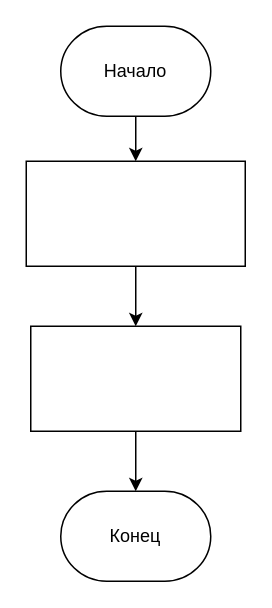
Some shapes in this 272 by 608 pixel diagram are drawn without their labels. The shapes that lost their labels are listed below. From the top down, each one's centre as x and y in pixels, then its label:
At pixel 135 213: "Изменить рейтинг участников 1-го, 2-го и 3-го места хакатона".
At pixel 135 378: "Изменить рейтинг команд, в которых состоят данные участники".
